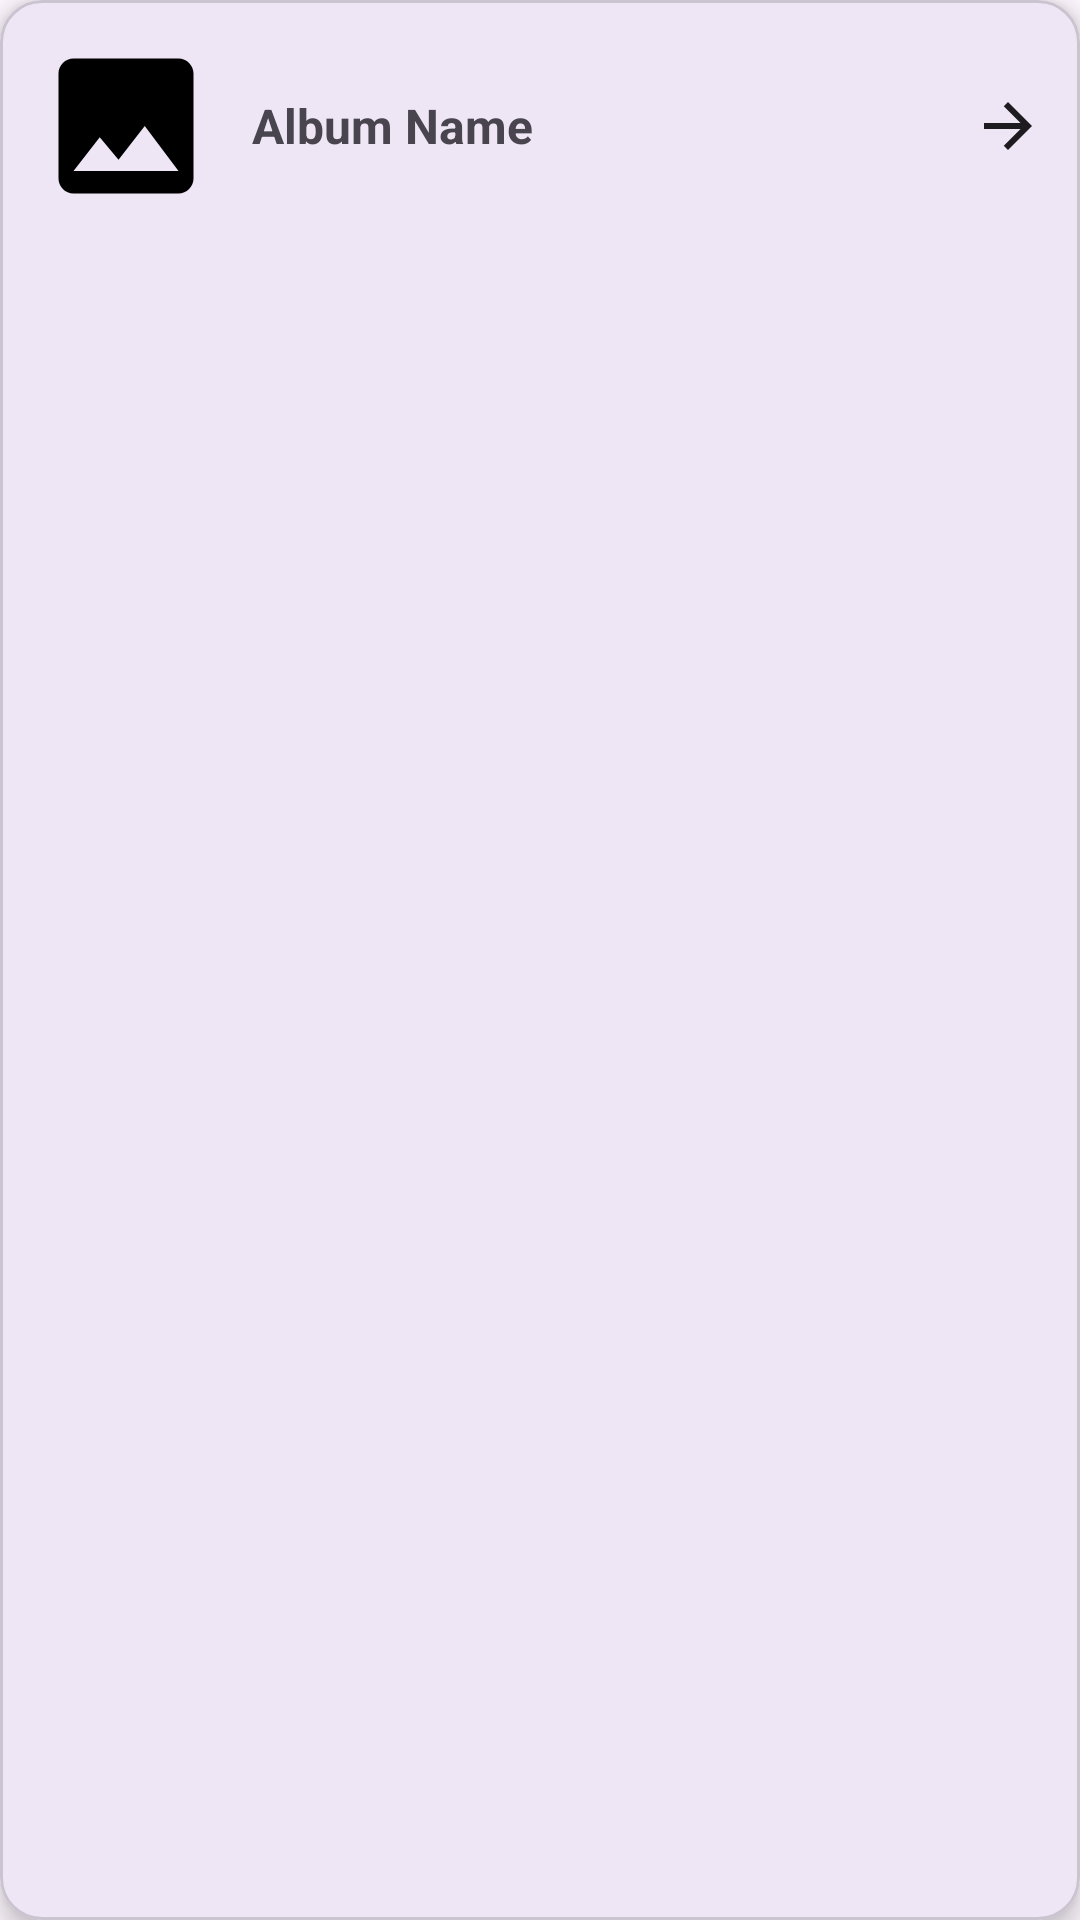

Icon click points for this 1080*1920 phone screenshot, format (x=x, y=y):
arrow right: (x=1008, y=126)
